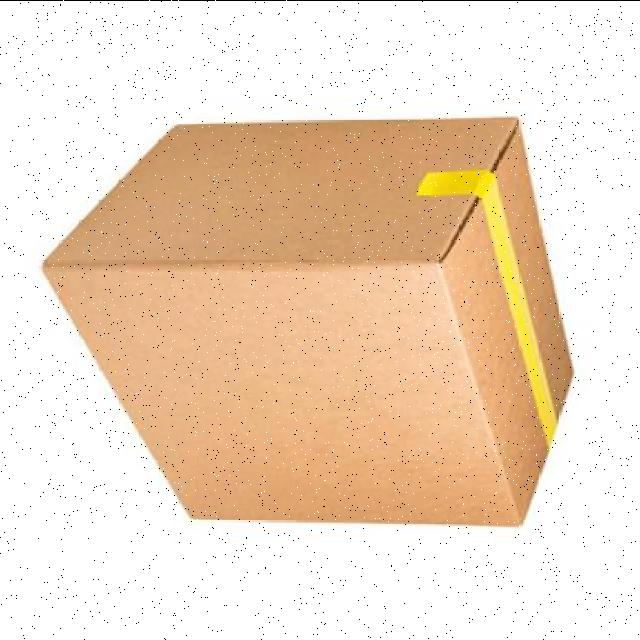normal: (36, 112, 578, 530)
